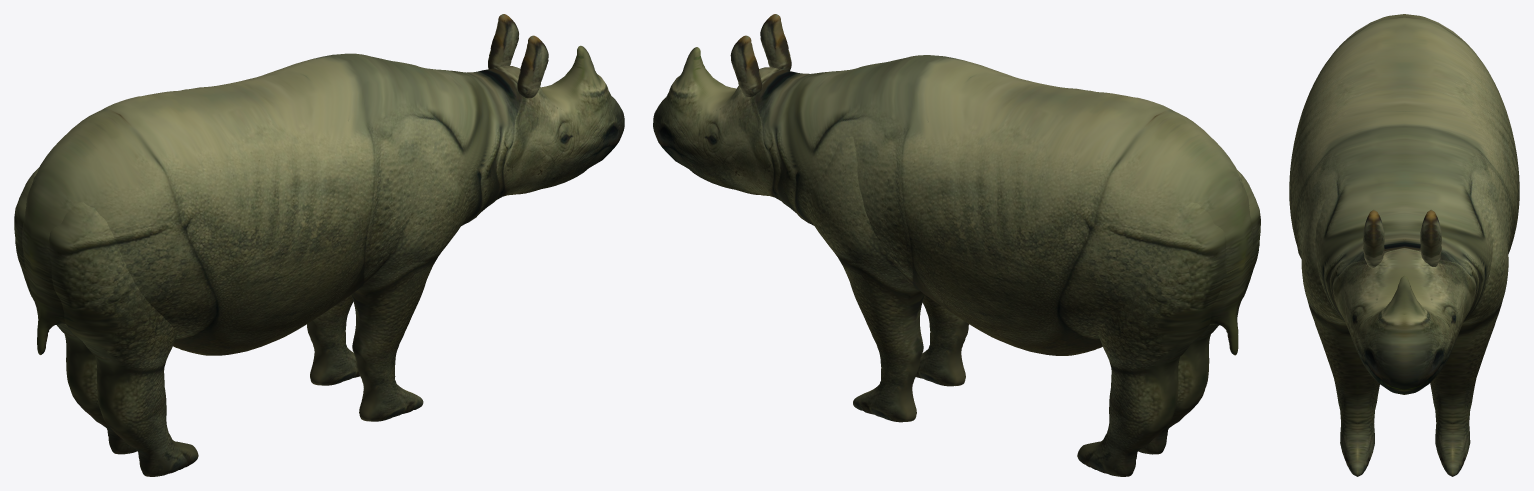
The model's file is javan-rhino.glb.
3 views of the same model, side by side, from view 1: azimuth 30°, elevation 25°; view 2: azimuth 150°, elevation 25°; view 3: azimuth 270°, elevation 25° (orthographic). The views are drawn at different scales.
Parts seen in each view (by area): view 1: mm_frame (57); view 2: mm_frame (57); view 3: mm_frame (57).
Boxes of the visible parts, bbox=[...] form: mm_frame (57): bbox=[14, 14, 624, 476]; mm_frame (57): bbox=[653, 14, 1260, 476]; mm_frame (57): bbox=[1289, 14, 1519, 476].
Bounding box in the file's own units: 7.7 × 4.46 × 2.69.
Materials: 1 (1 with a texture image).
